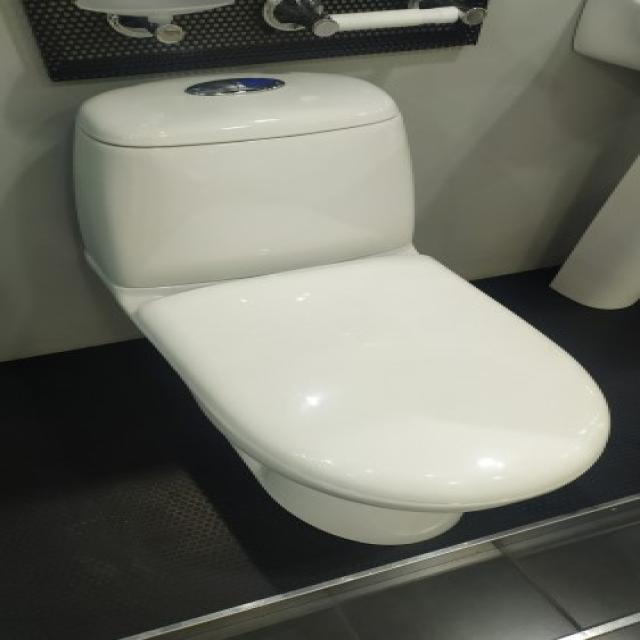toilet: (69, 69, 610, 545)
